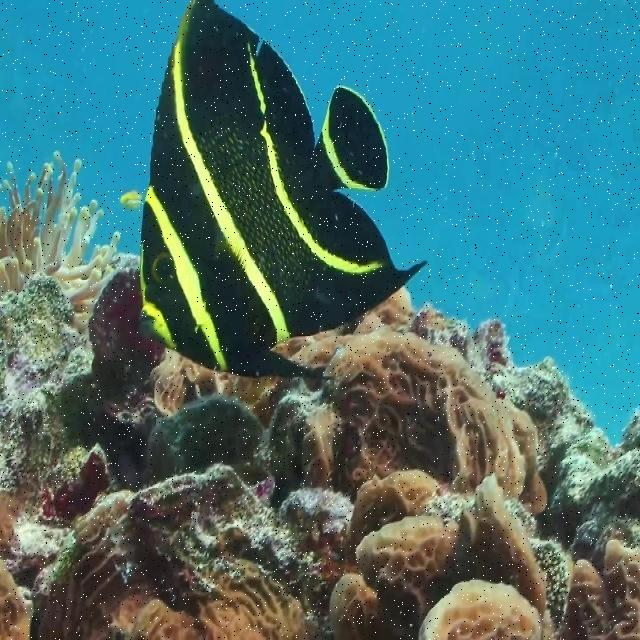fish: (140, 1, 429, 380)
reefs: (291, 292, 545, 515), (417, 540, 639, 639), (0, 146, 120, 328), (422, 481, 548, 610), (360, 514, 458, 619), (342, 471, 437, 564)
